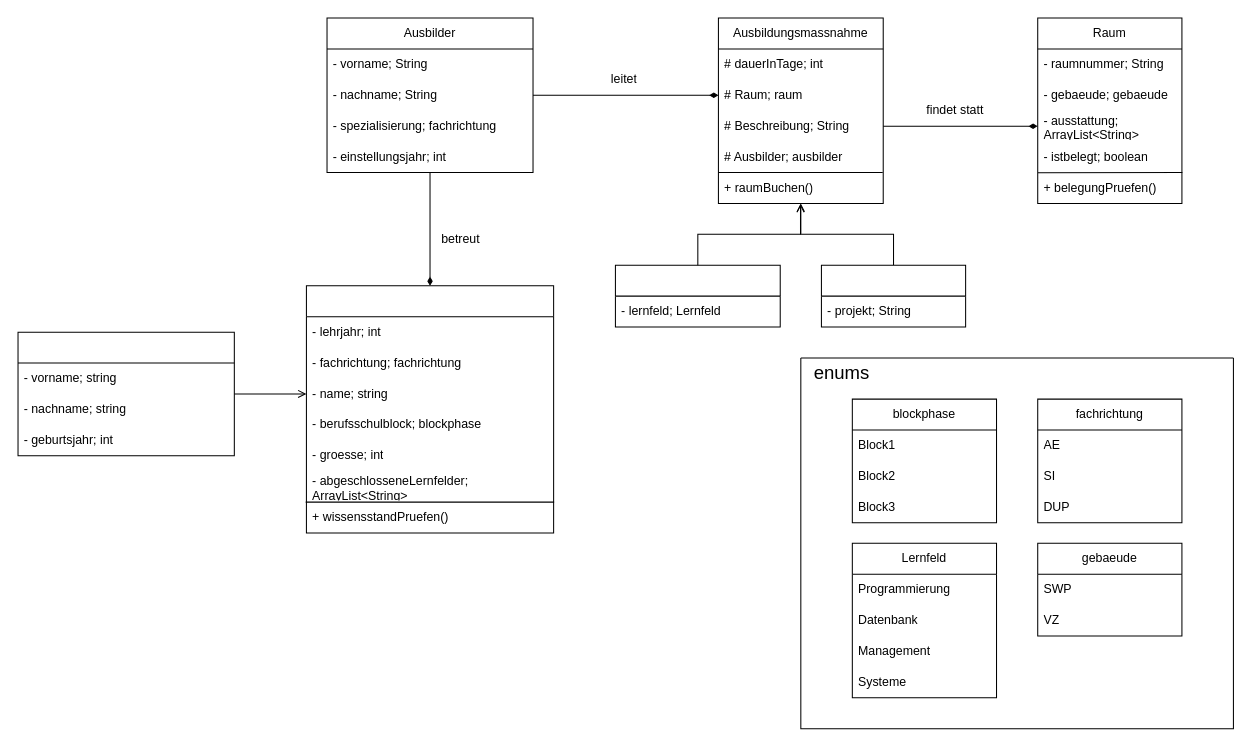
The diagram is 1251 pixels wide and 747 high, and some of its shapes have lost their labels. The box of each missing label's shape, as (x1, y1, x2, y2) in pixels:
Azubi: (17, 331, 234, 456)
Gruppe: (305, 285, 554, 533)
Seminar: (614, 264, 780, 327)
Workshop: (820, 264, 966, 327)
